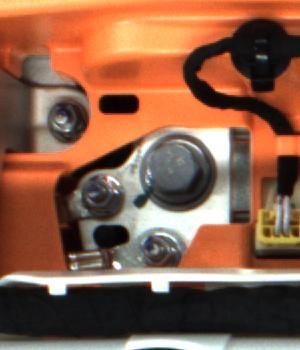nut_b: (135, 133, 222, 206)
screw_s: (78, 172, 121, 213), (136, 229, 181, 265), (42, 100, 82, 140)
